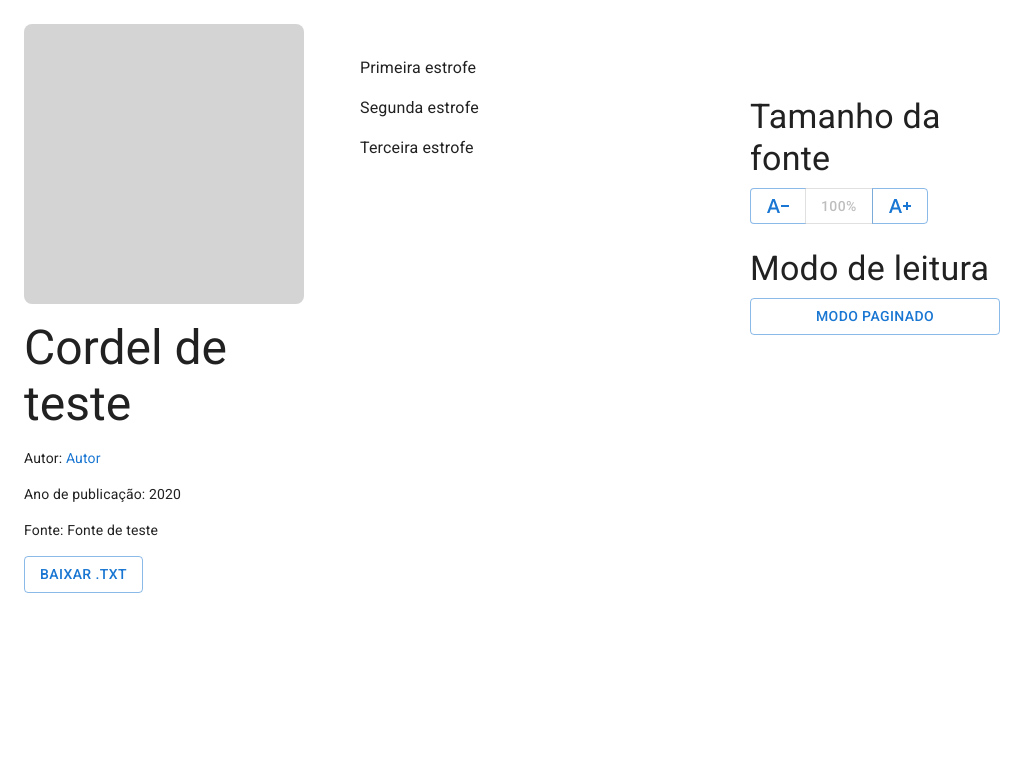
Test: CordelViewer › changes font size using reading preferences and does not render theme section
What coordinates should you click on to do the following:
click the button named "Aumentar fonte"
I would click on:
 (900, 206)
Its box is x1=872 y1=188 x2=928 y2=224.
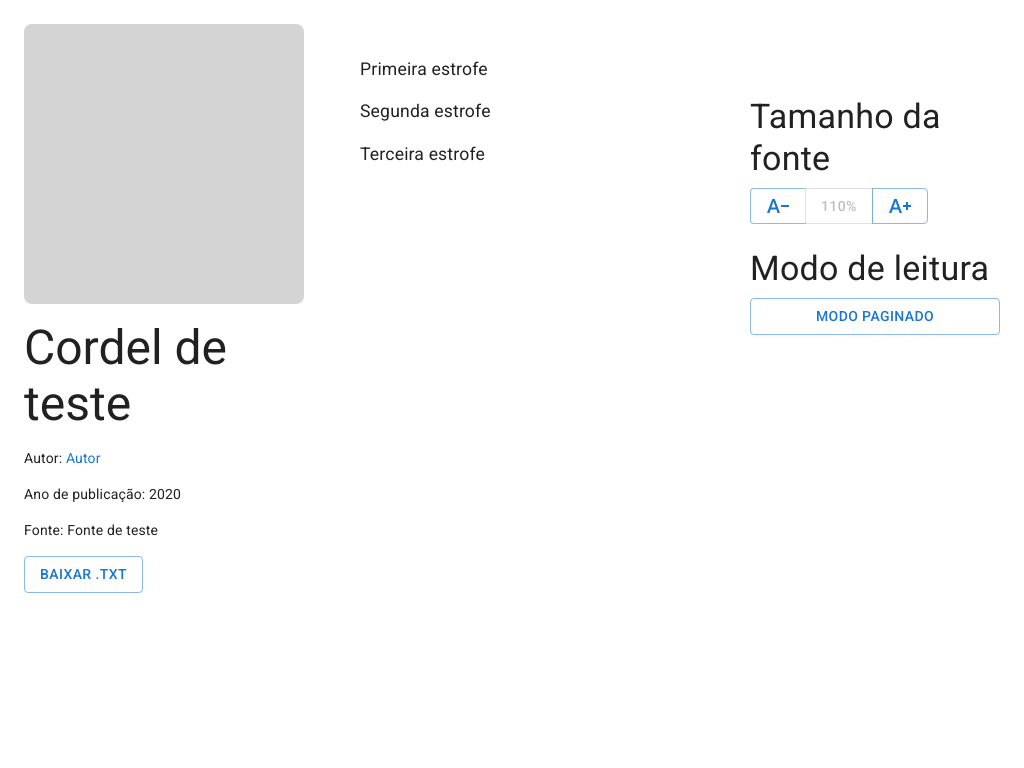
expect the element with test id "reading-area" is shown: met, box x1=328 y1=24 x2=726 y2=384
expect the button "110%" is shown: met, box x1=805 y1=188 x2=873 y2=224
